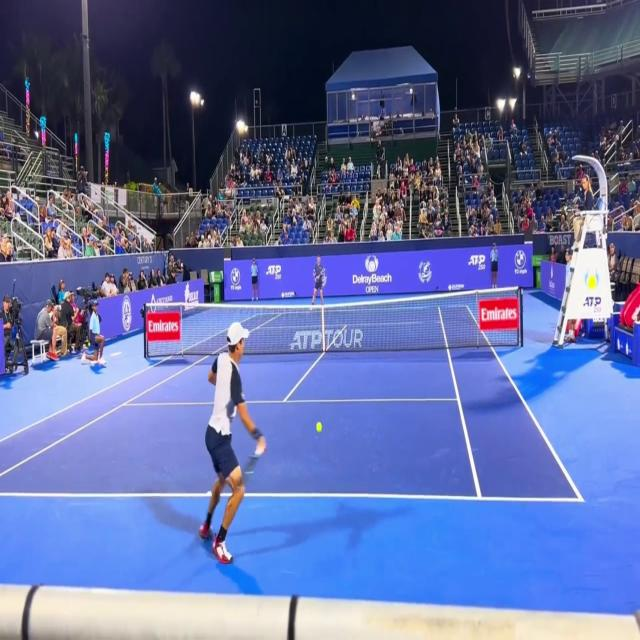tennisBall: (316, 417, 326, 437)
